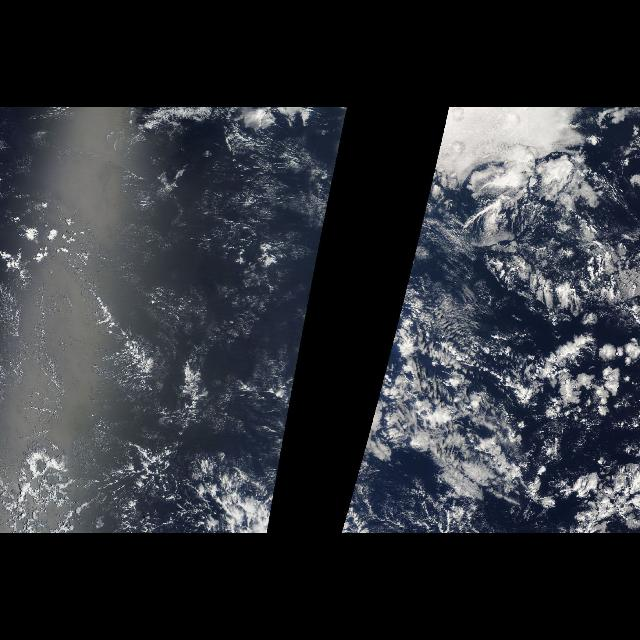Sugar: (0, 127, 300, 441)
